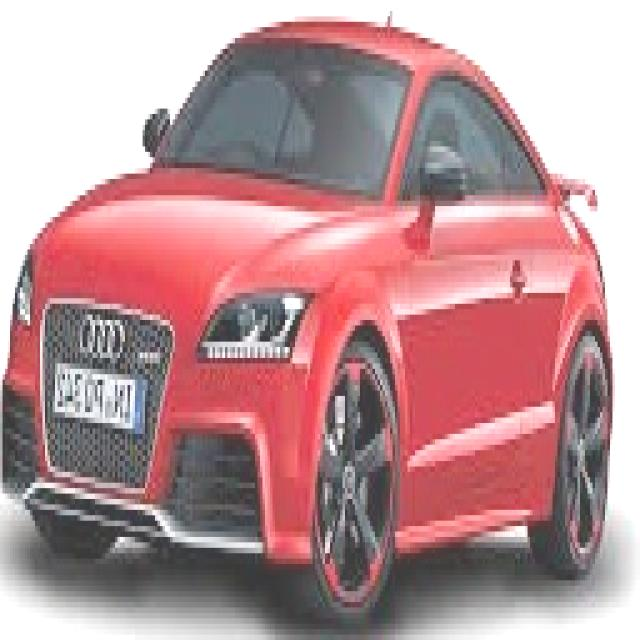red: (0, 16, 610, 608)
